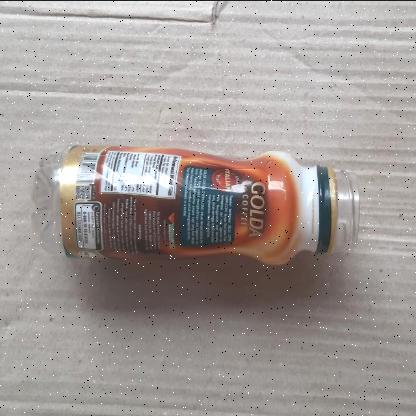Plastic Bottle: (18, 124, 378, 300)
